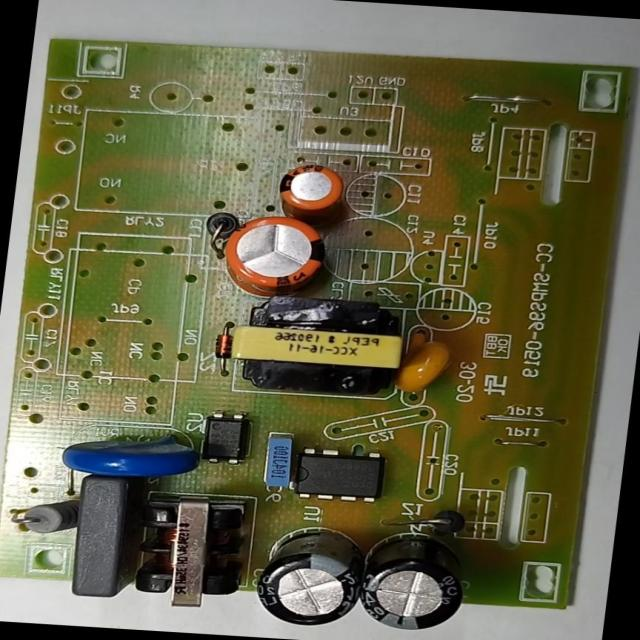Cap1: (211, 209, 334, 300)
Cap2: (267, 158, 354, 223)
Cap3: (241, 516, 378, 635)
Cap4: (346, 520, 476, 636)
MOSFET: (284, 442, 395, 508)
Mov: (48, 418, 213, 488)
Resistor: (3, 486, 87, 543)
Transformer: (219, 292, 420, 402), (126, 485, 254, 616)
